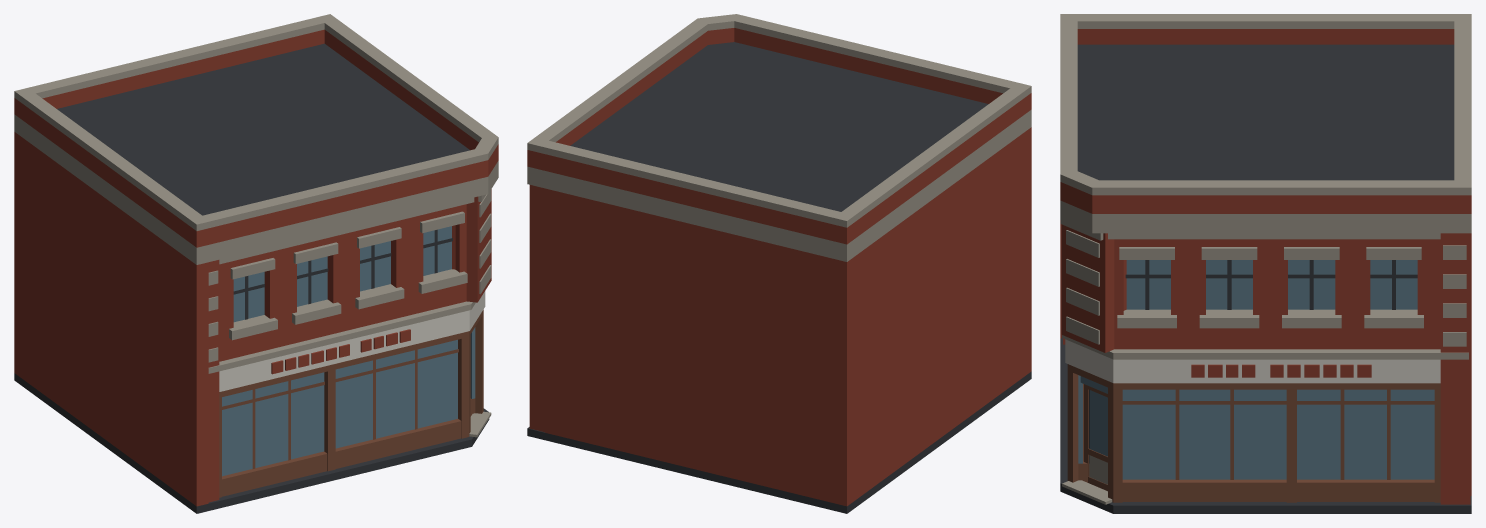
Rendered from corner-shop-db18e2.glb.
3 renders of one model, left to right at view 1: azimuth 30°, elevation 25°; view 2: azimuth 150°, elevation 25°; view 3: azimuth 270°, elevation 25°, orthographic. The views are drawn at different scales.
Visible parts, largest first — view 1: shop-shell; view 2: shop-shell; view 3: shop-shell, door-leaf.
Part boxes in pixels (box(x1,y1,x2,y2)): shop-shell: box(14, 14, 498, 513); shop-shell: box(527, 14, 1031, 513); shop-shell: box(1060, 14, 1471, 513); door-leaf: box(1084, 384, 1107, 491).
Bounding box in the file's own units: 8 × 7 × 8.
